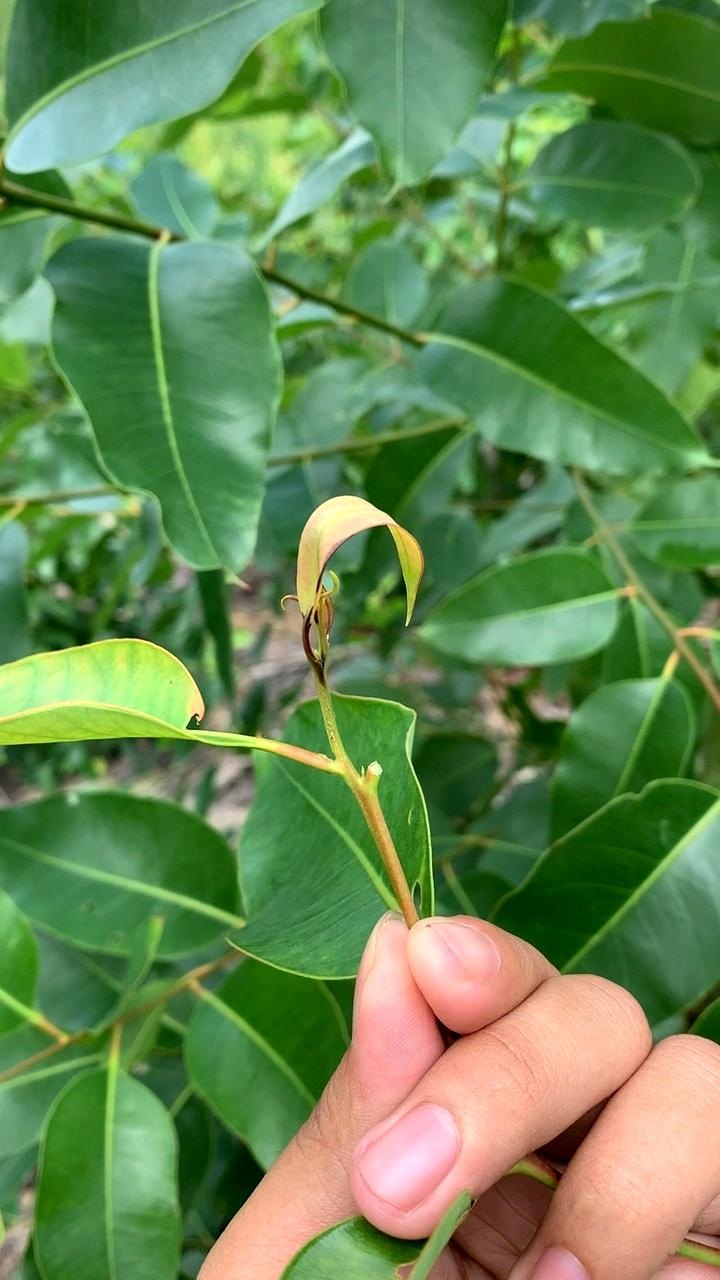Helopeltis-Withered Sprout: (283, 476, 435, 642)
